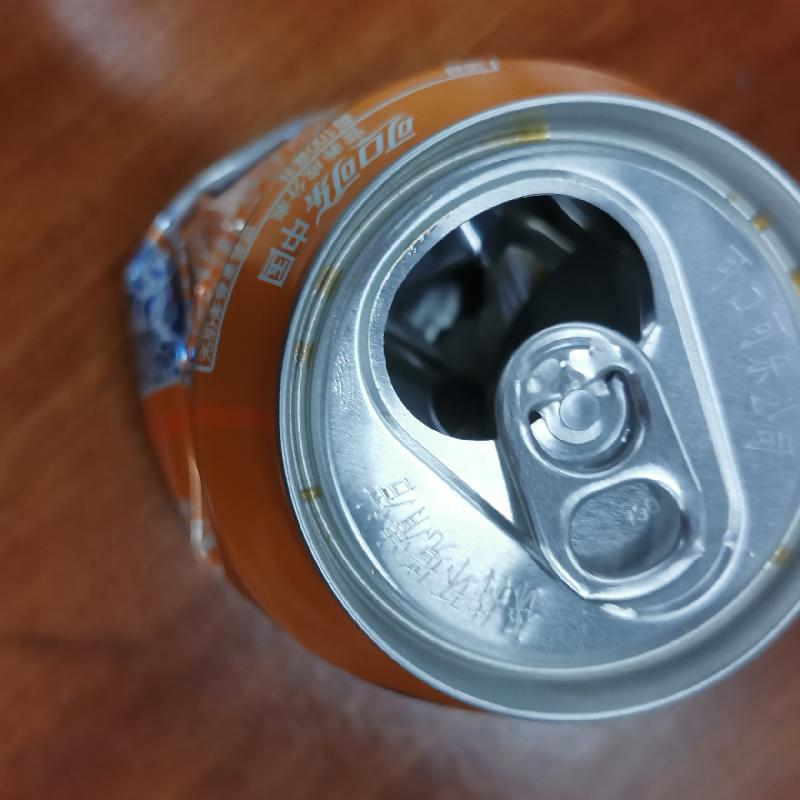cans: (116, 55, 800, 721)
